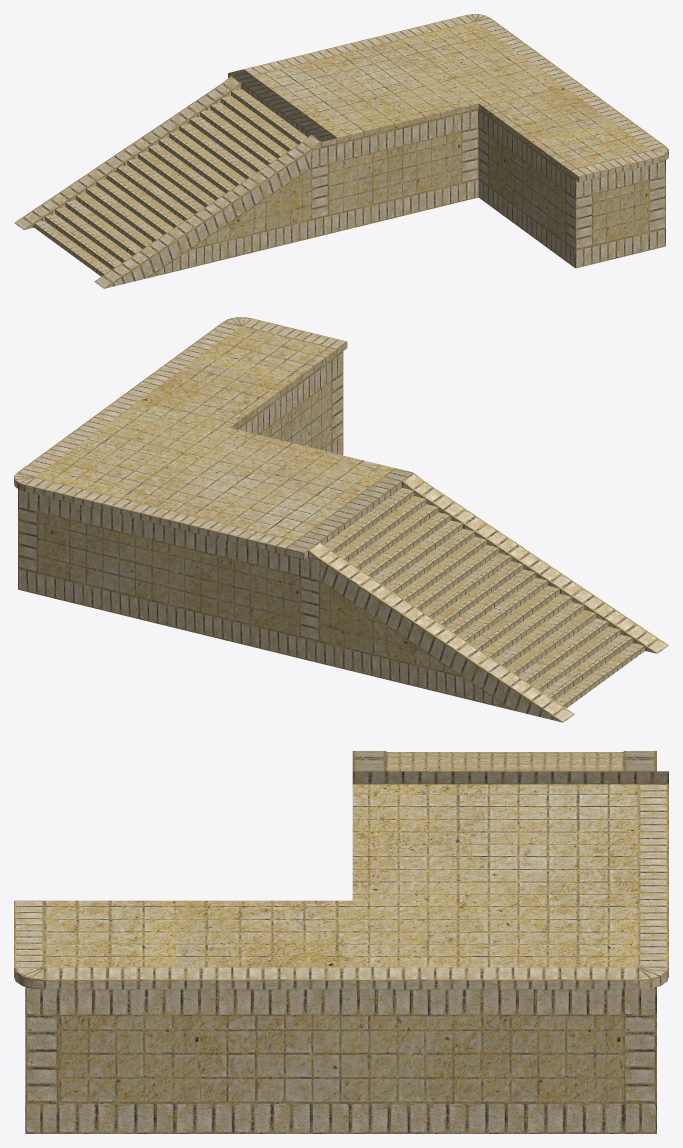
Rendered from tutorial_structure_block08.dae.
3 views of the same model, one above another, from view 1: azimuth 30°, elevation 25°; view 2: azimuth 150°, elevation 25°; view 3: azimuth 270°, elevation 25° (orthographic). The views are drawn at different scales.
Visible parts, largest first — view 1: tutorial_structure_block08; view 2: tutorial_structure_block08; view 3: tutorial_structure_block08.
Boxes of the visible parts, box(x1,y1,x2,y2) form: tutorial_structure_block08: box(14, 14, 668, 288); tutorial_structure_block08: box(14, 317, 668, 722); tutorial_structure_block08: box(14, 751, 668, 1133).
Size of the model in its own units: 20.38 by 14.53 by 3.89.
Materials: 3 (3 with a texture image).
